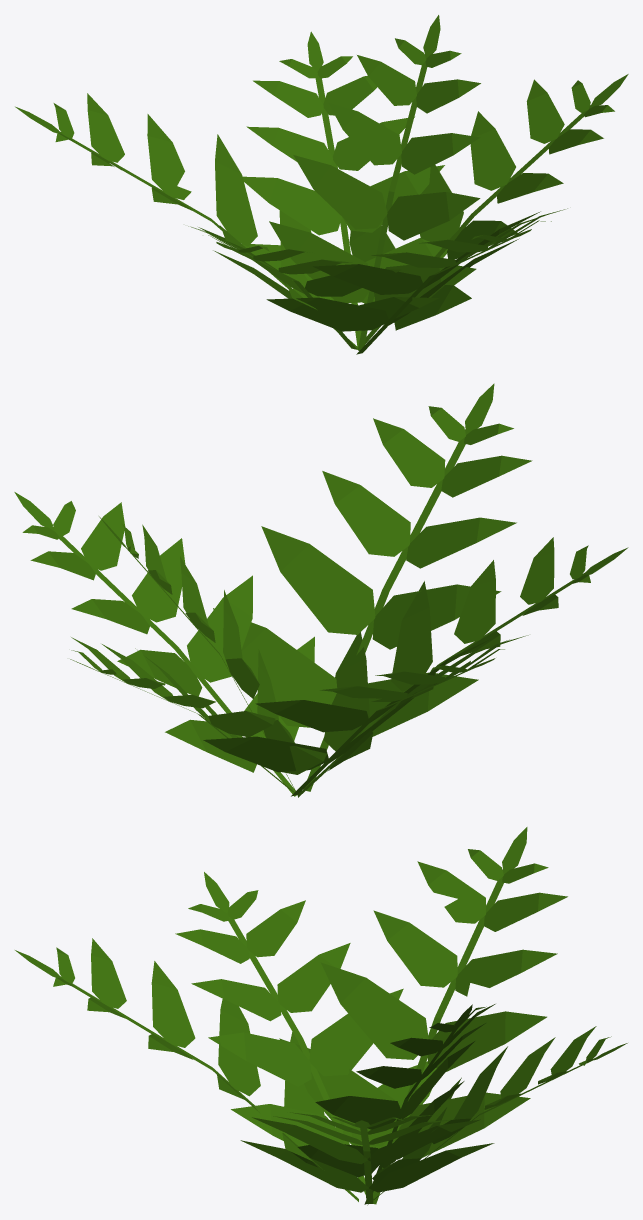
Rendered from grass-fern-mature-a.fbx.
The picture shows the model from 3 angles, top to bottom: view 1: azimuth 30°, elevation 25°; view 2: azimuth 150°, elevation 25°; view 3: azimuth 270°, elevation 25°; orthographic projection. The views are drawn at different scales.
Visible parts, largest first — view 1: grass-fern-mature-a; view 2: grass-fern-mature-a; view 3: grass-fern-mature-a.
Part boxes in pixels (box(x1,y1,x2,y2)): grass-fern-mature-a: box(15, 15, 628, 354); grass-fern-mature-a: box(14, 383, 628, 797); grass-fern-mature-a: box(15, 827, 627, 1205).
Size of the model in its own units: 1547 by 739 by 1560.
